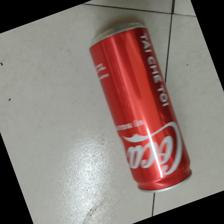Coca: (89, 20, 194, 196)
